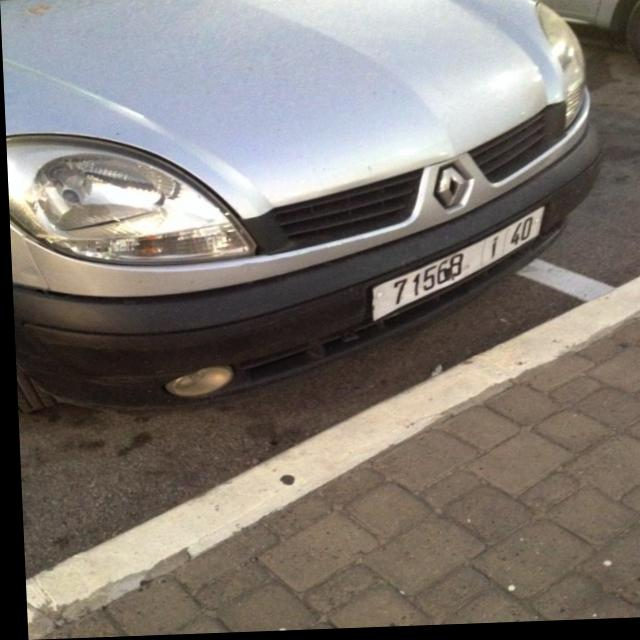License-Plate: (369, 211, 543, 323)
